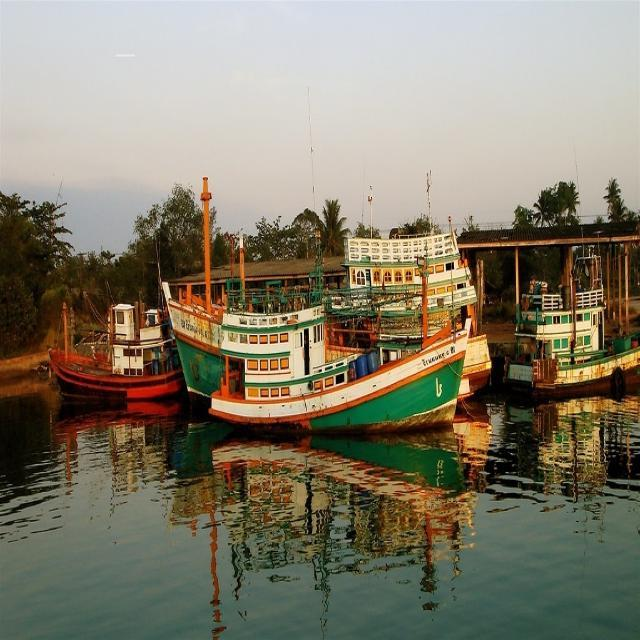boat: (214, 304, 472, 448)
